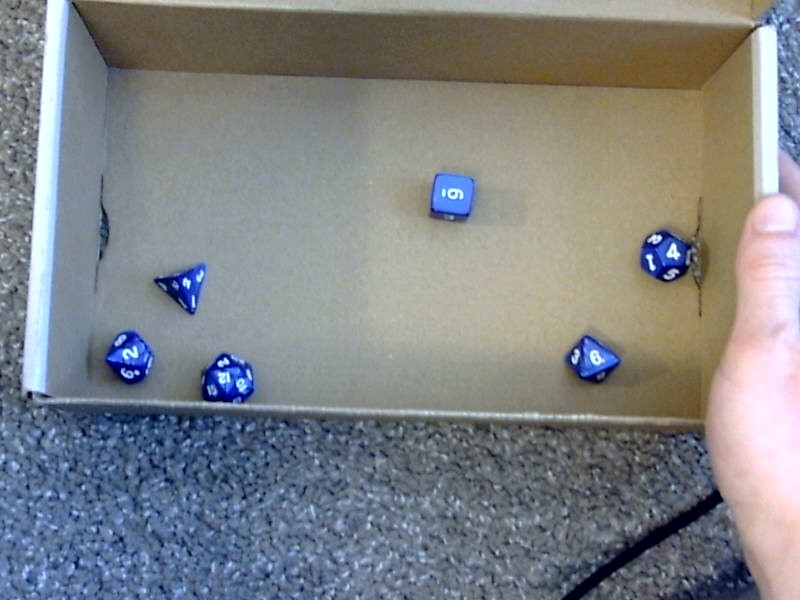d10 2: (100, 327, 155, 390)
d12 4: (637, 226, 691, 286)
d20 12: (197, 347, 256, 405)
d4 2: (151, 260, 210, 316)
d6 6: (427, 168, 476, 224)
d8 6: (561, 328, 619, 389)
